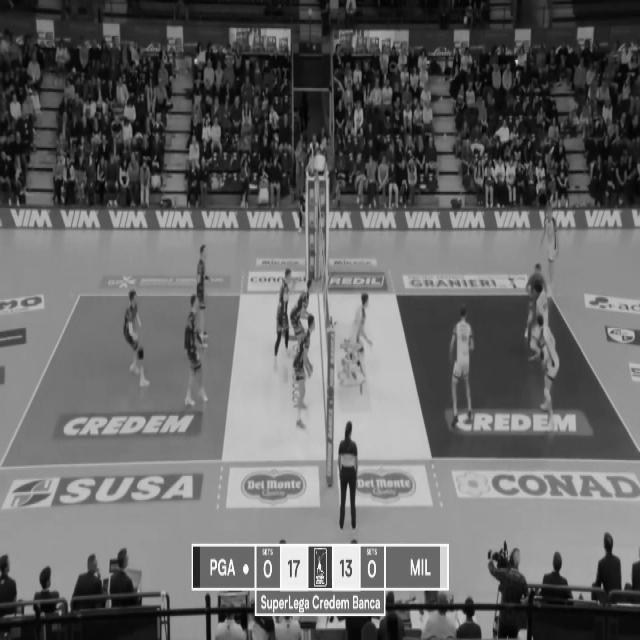volleyball court: (1, 287, 640, 469)
